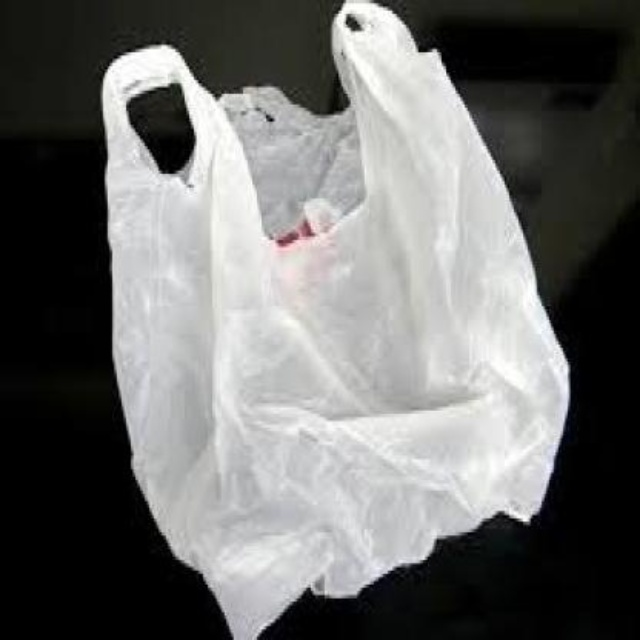trash: (102, 0, 568, 638)
